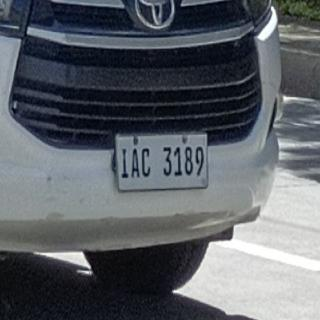license: (117, 135, 209, 191)
